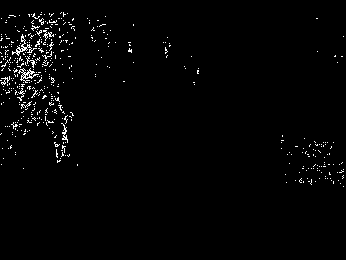person: (45, 96, 71, 163)
